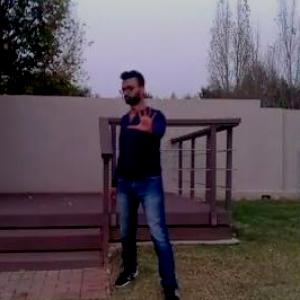follow_hand: (124, 98, 164, 139)
